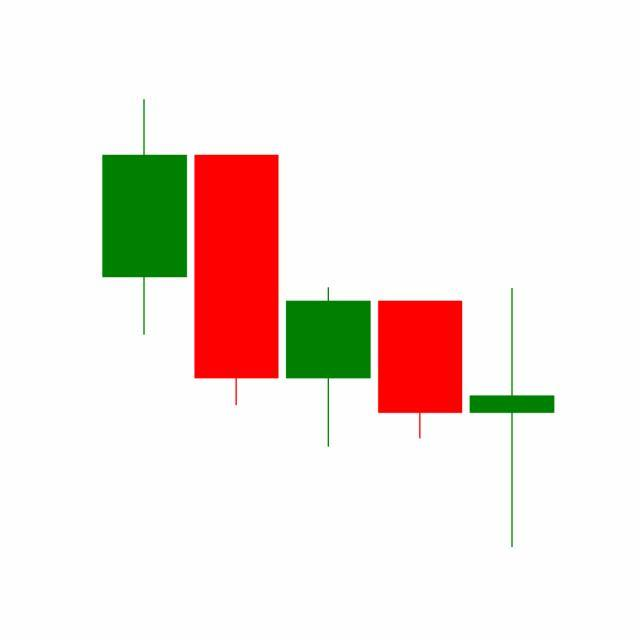Spinning Top: (466, 285, 559, 551)
